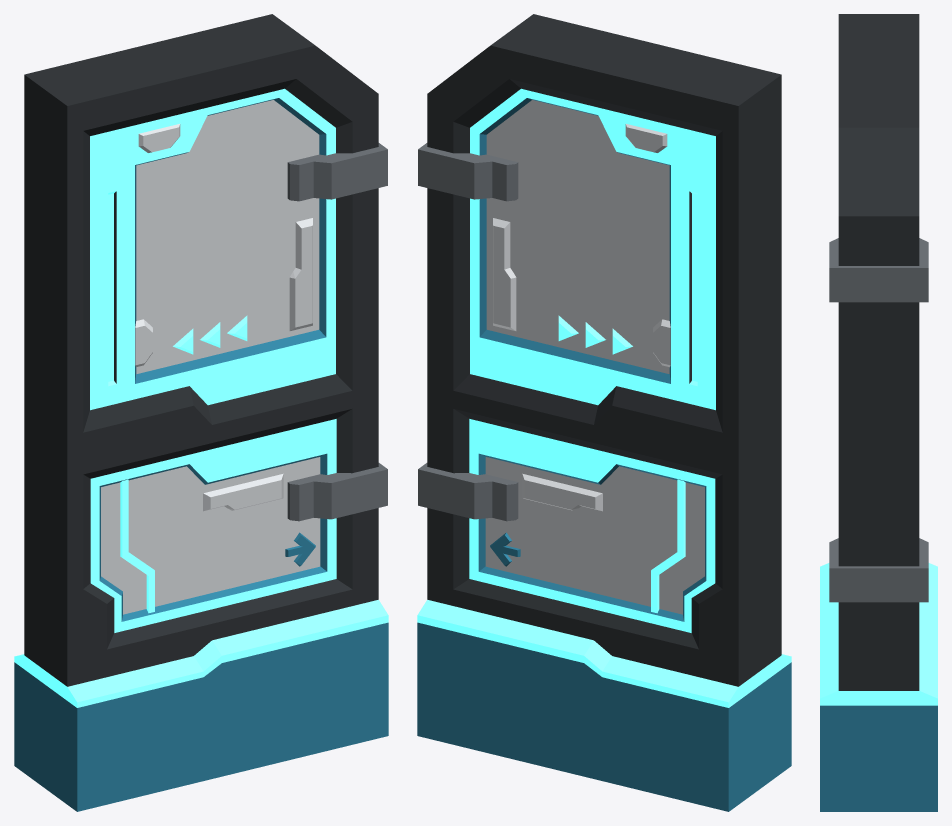
File: door_double_r-Bdh9v_xz.glb
3 renders of one model, left to right at view 1: azimuth 30°, elevation 25°; view 2: azimuth 150°, elevation 25°; view 3: azimuth 270°, elevation 25°, orthographic. The views are drawn at different scales.
Visible parts, largest first — view 1: Door_Double.R; view 2: Door_Double.R; view 3: Door_Double.R.
Boxes of the visible parts, x1,y1,x2,y2 form: Door_Double.R: [14, 14, 388, 811]; Door_Double.R: [417, 14, 791, 811]; Door_Double.R: [820, 14, 937, 811].
Size of the model in its own units: 1.32 by 2.79 by 0.4542.
